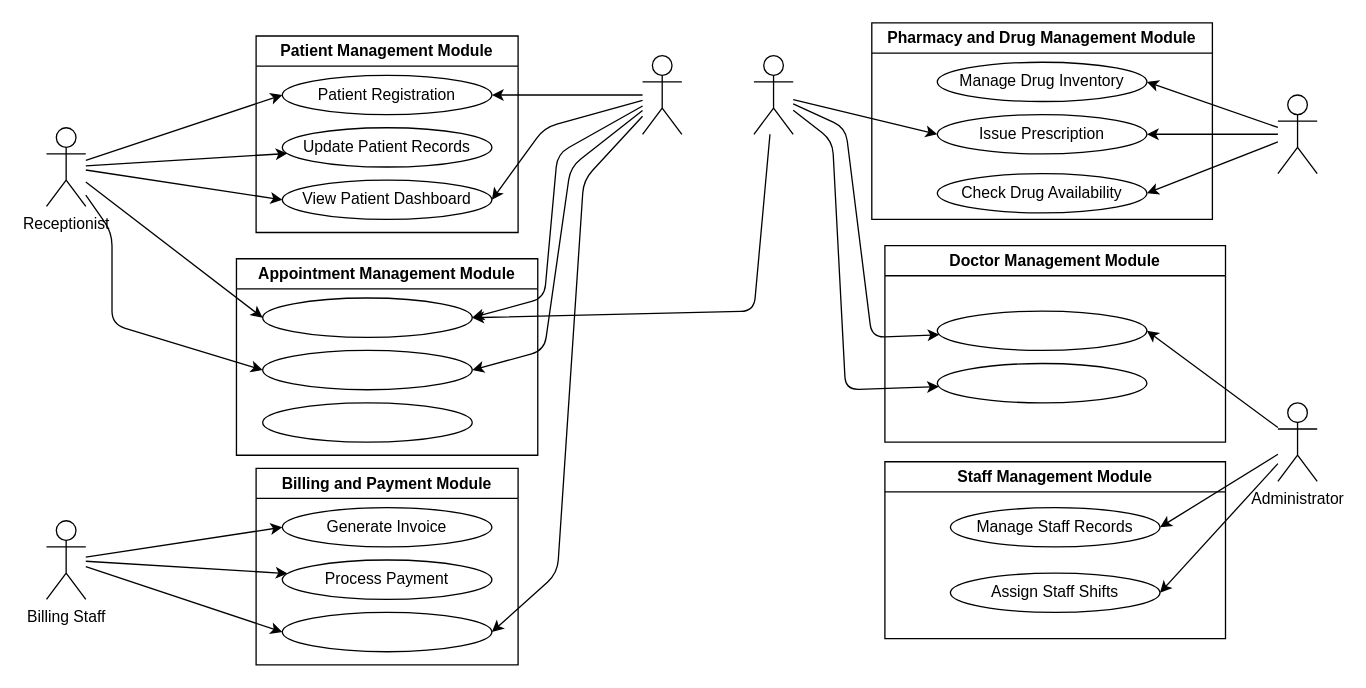
This 1366x688 diagram has some shape labels left out. Here are the shapes that lost their labels. From the top down, the centre of each, then its label:
At (x=661, y=94): "Patient".
At (x=773, y=94): "Doctor".
At (x=1297, y=134): "Pharmacist".
At (x=366, y=317): "Schedule Appointments".
At (x=1041, y=330): "Manage Doctor Schedule".
At (x=366, y=369): "Reschedule/Cancel Appointments".
At (x=1041, y=382): "View Doctor Details".
At (x=366, y=422): "Send Appointment Reminders".
At (x=386, y=631): "Manage Insurance Claims".
